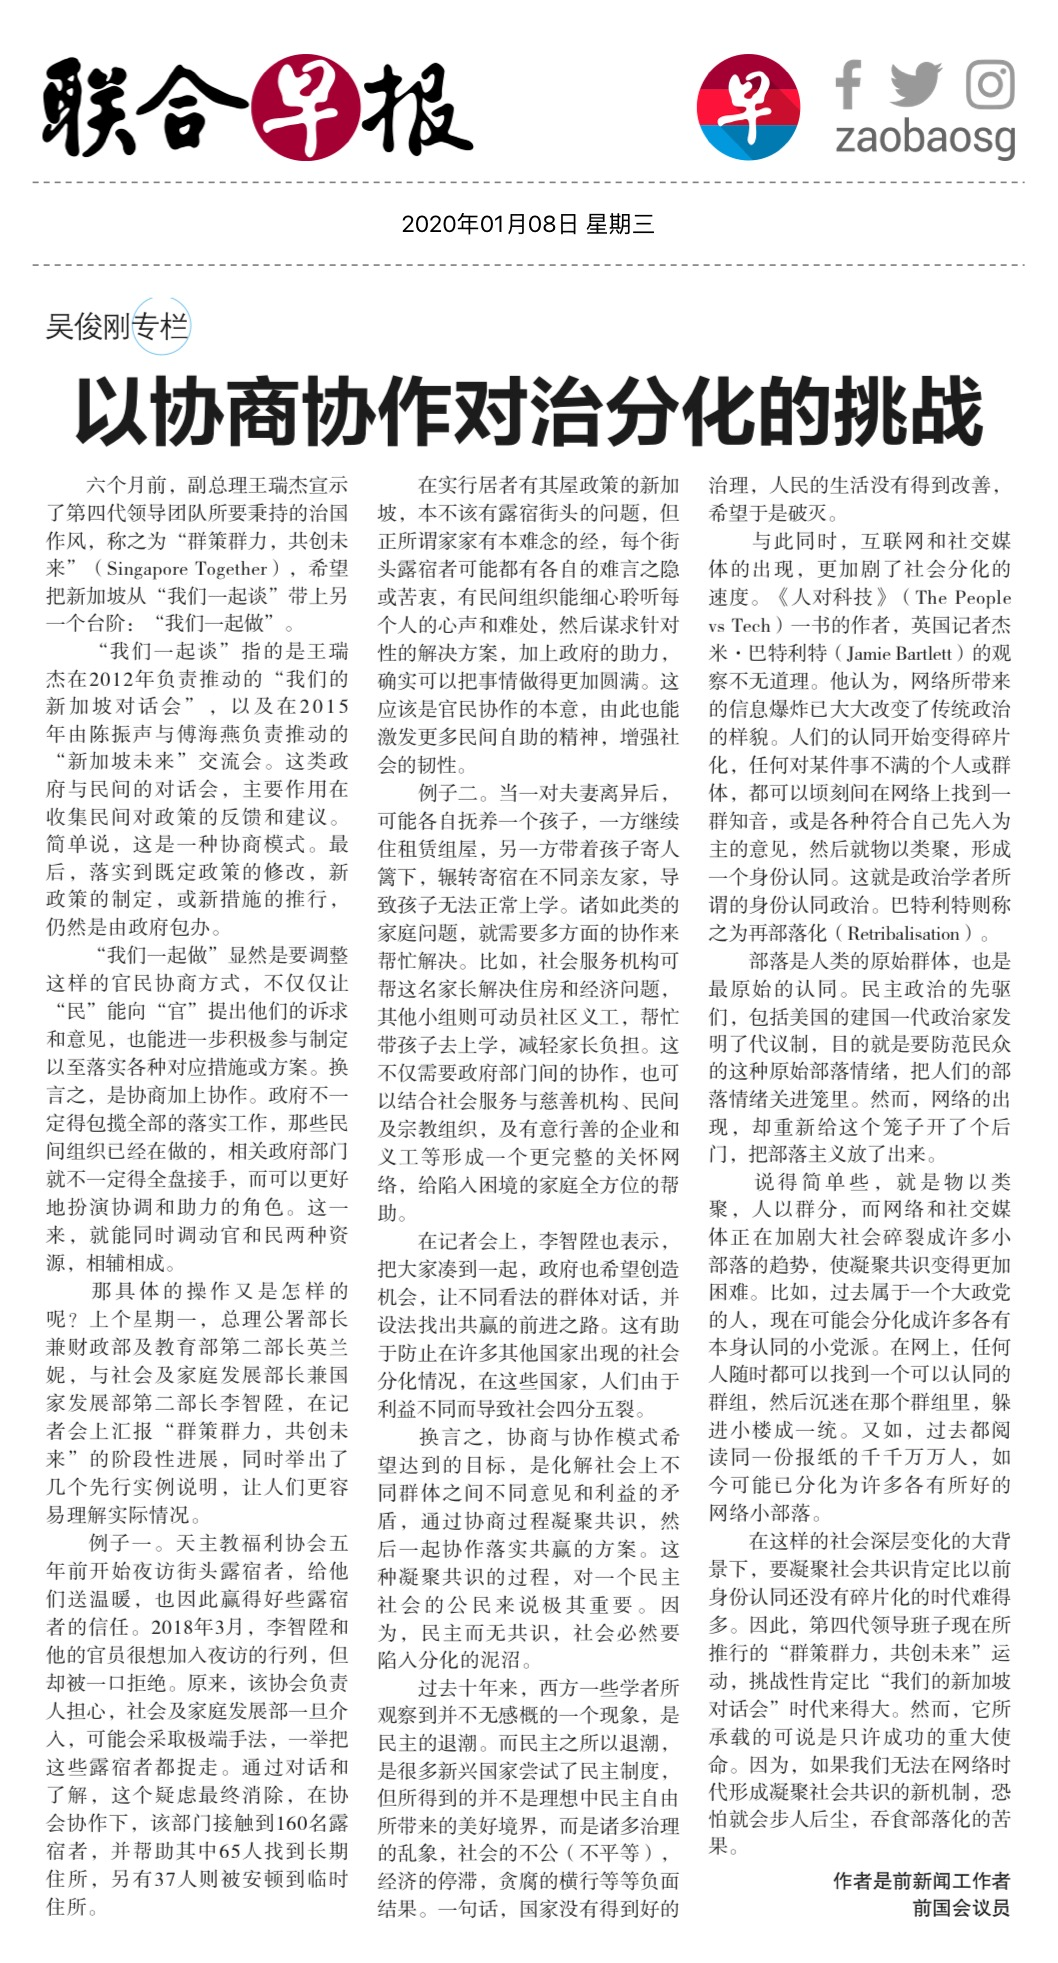heading: (66, 357, 994, 459)
